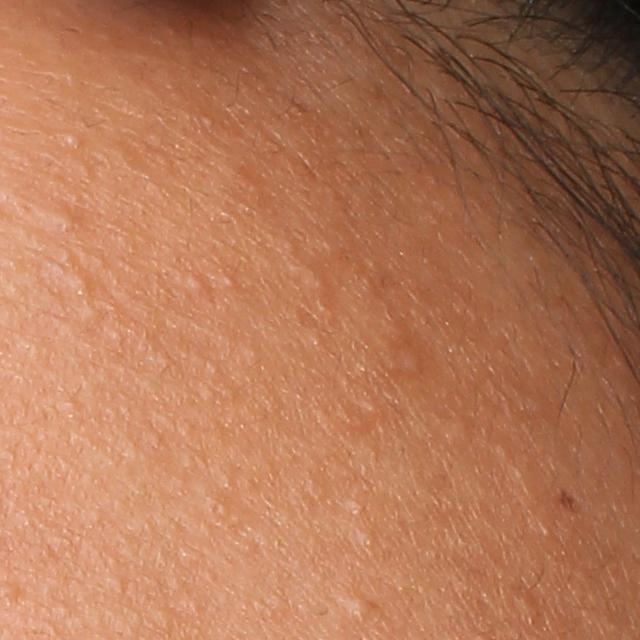comedo: (60, 273, 95, 301), (45, 208, 78, 235), (340, 594, 371, 620), (514, 592, 537, 621), (185, 274, 208, 295), (356, 530, 378, 551), (343, 497, 365, 516), (64, 133, 82, 151), (222, 274, 238, 288)
nevus: (558, 487, 581, 512)
